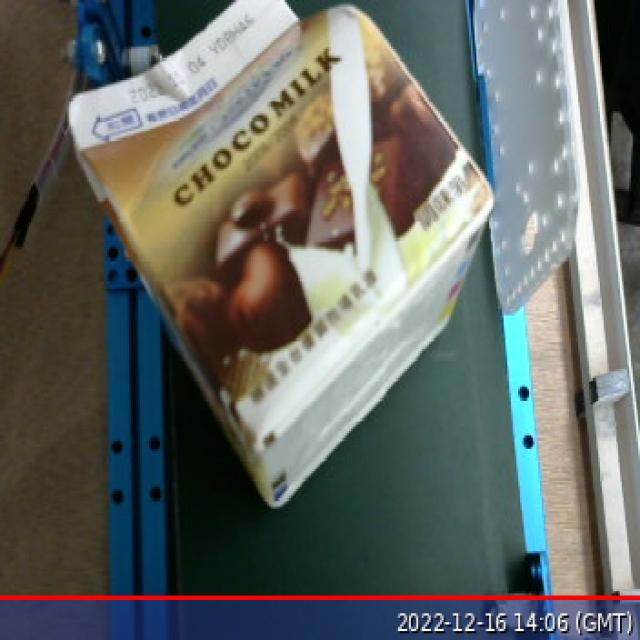non_white_jug: (25, 2, 544, 537)
